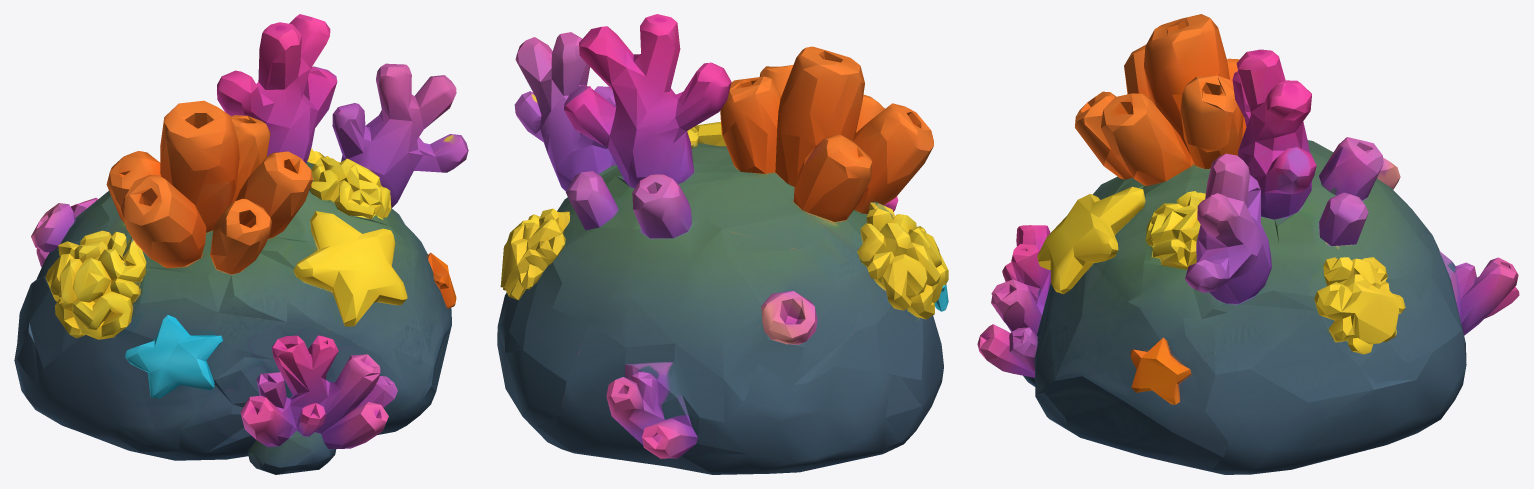
3 renders of one model, left to right at view 1: azimuth 30°, elevation 25°; view 2: azimuth 150°, elevation 25°; view 3: azimuth 270°, elevation 25°, orthographic. The views are drawn at different scales.
Size of the model in its own units: 1.72 by 1.42 by 1.89.
Materials: 1 (1 with a texture image).
